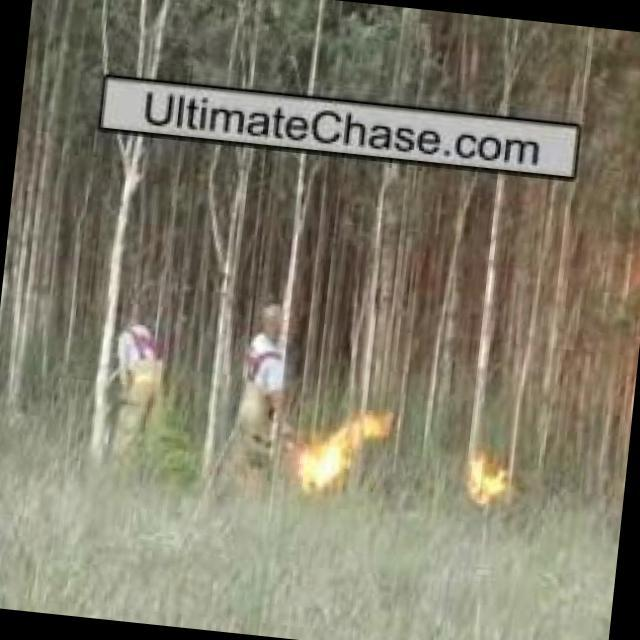Fire: (290, 406, 396, 503), (467, 457, 522, 514)
